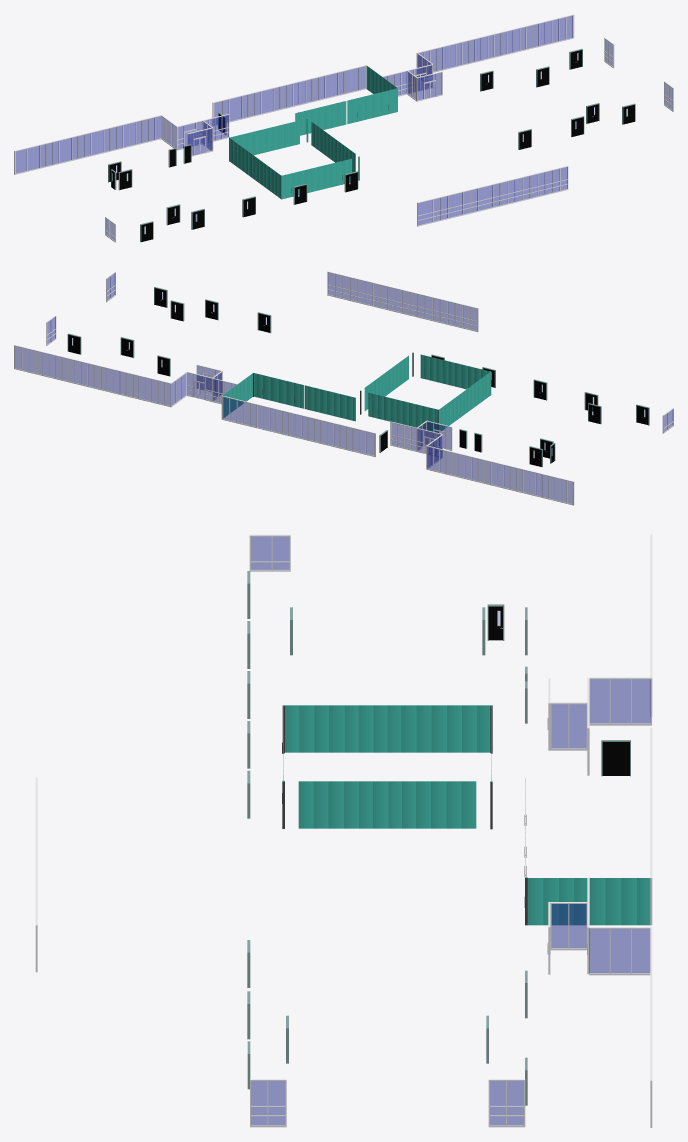
The model's file is 3F_Door.fbx.
3 renders of one model, top to bottom at view 1: azimuth 30°, elevation 25°; view 2: azimuth 150°, elevation 25°; view 3: azimuth 270°, elevation 25°, orthographic. The views are drawn at different scales.
Parts seen in each view (by area): view 1: Glass_Front, Glass_01, Glass_Wall002, Window_Back, Glass_Wall, Glass_Class_Door005; view 2: Glass_Front, Glass_01, Glass_Wall002, Window_Back, Glass_Wall, Glass_Class_Door005; view 3: Glass_Wall002, Glass_Front, Glass_Wall, Glass_01, Window_Single, Window_Single001, Glass_Wall_Half, Door_set_B_2B.
Part boxes in pixels (left/top/right/bottom): Glass_Front: left=212, top=14, right=574, bottom=126; Glass_01: left=14, top=114, right=229, bottom=174; Glass_Wall002: left=229, top=121, right=355, bottom=198; Window_Back: left=417, top=166, right=568, bottom=226; Glass_Wall: left=304, top=65, right=397, bottom=134; Glass_Class_Door005: left=230, top=120, right=351, bottom=198; Glass_Front: left=14, top=345, right=375, bottom=456; Glass_01: left=390, top=420, right=574, bottom=505; Glass_Wall002: left=364, top=355, right=490, bottom=430; Window_Back: left=327, top=271, right=478, bottom=331; Glass_Wall: left=222, top=372, right=346, bottom=418; Glass_Class_Door005: left=368, top=354, right=489, bottom=432; Glass_Wall002: left=283, top=705, right=491, bottom=828; Glass_Front: left=547, top=727, right=652, bottom=1127; Glass_Wall: left=525, top=787, right=650, bottom=925; Glass_01: left=547, top=534, right=652, bottom=775; Window_Single: left=488, top=1079, right=525, bottom=1127; Window_Single001: left=250, top=1079, right=286, bottom=1127; Glass_Wall_Half: left=249, top=534, right=290, bottom=571; Door_set_B_2B: left=601, top=740, right=630, bottom=776.
Bounding box in the file's own units: 79.29 × 3.2 × 37.82.
